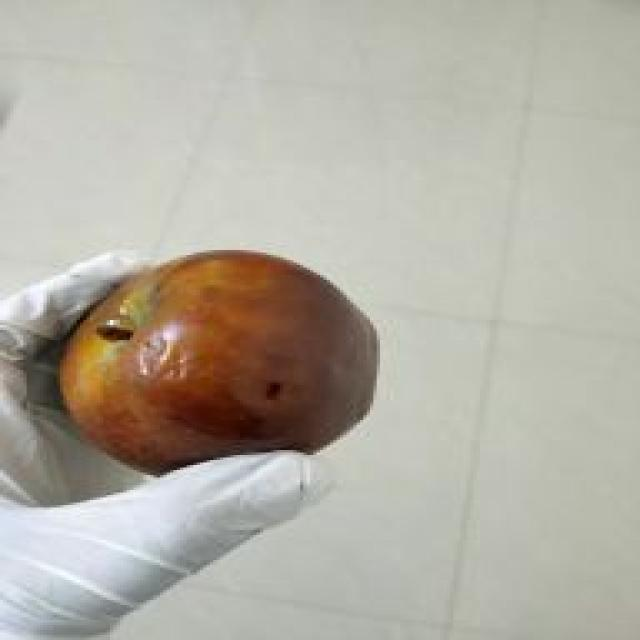Rotten_Apple: (48, 248, 385, 479)
